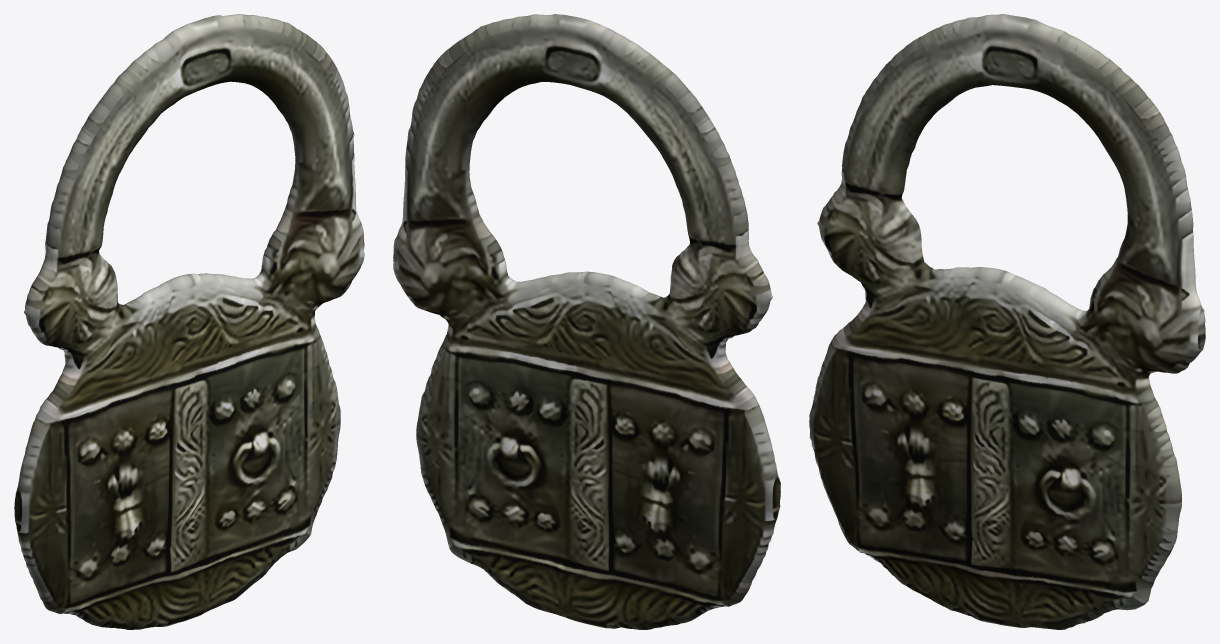
Rendered from kfl-2259.glb.
3 renders of one model, left to right at view 1: azimuth 30°, elevation 25°; view 2: azimuth 150°, elevation 25°; view 3: azimuth 330°, elevation 25°, orthographic. The views are drawn at different scales.
Parts seen in each view (by area): view 1: kfl-2259; view 2: kfl-2259; view 3: kfl-2259.
Part boxes in pixels (left/top/right/bottom): kfl-2259: left=14, top=14, right=364, bottom=629; kfl-2259: left=393, top=14, right=780, bottom=629; kfl-2259: left=809, top=14, right=1205, bottom=629.
Size of the model in its own units: 0.6345 by 0.9921 by 0.0919.
1 material, 1 textured.
